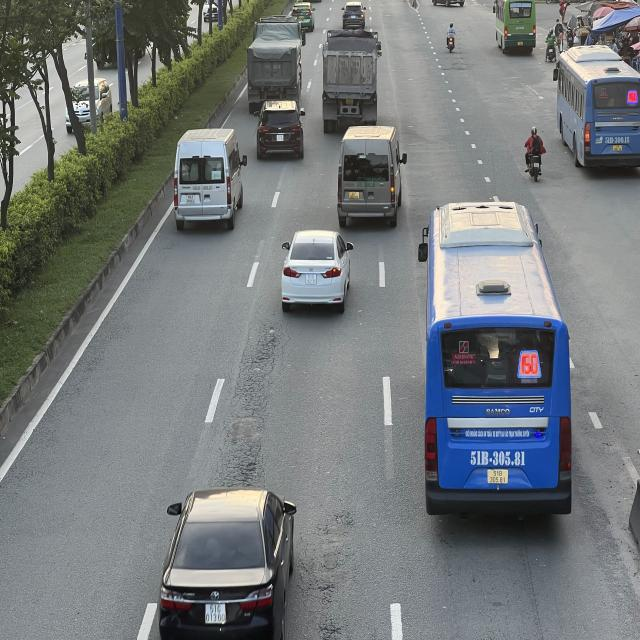car: (160, 489, 301, 640), (282, 232, 356, 314), (255, 101, 306, 159), (342, 2, 368, 30)
coach: (426, 198, 573, 518), (552, 43, 638, 168), (492, 0, 535, 52)
container: (322, 31, 383, 124), (248, 15, 306, 109)
van: (174, 129, 246, 232), (337, 128, 406, 229)
